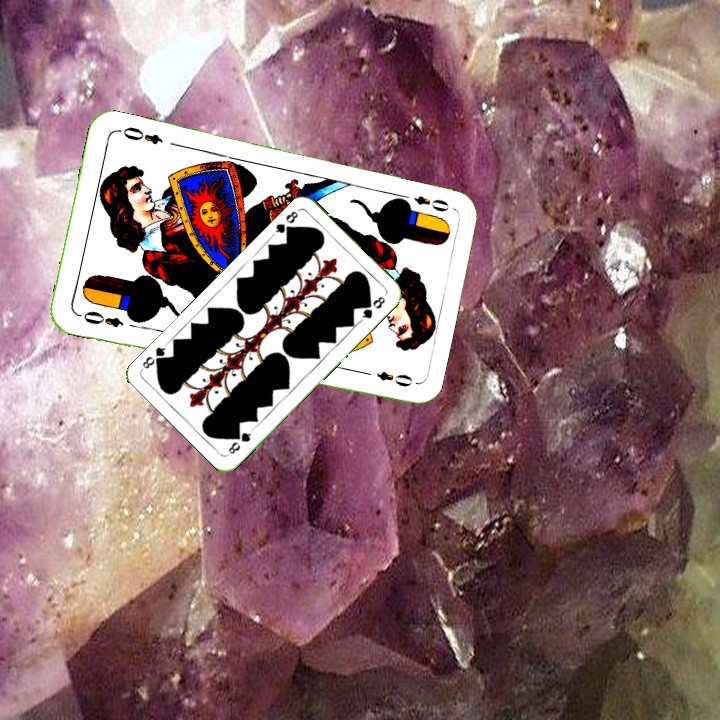EO: (395, 190, 452, 215), (73, 307, 126, 330)
G8: (269, 205, 301, 238), (224, 425, 256, 457)
